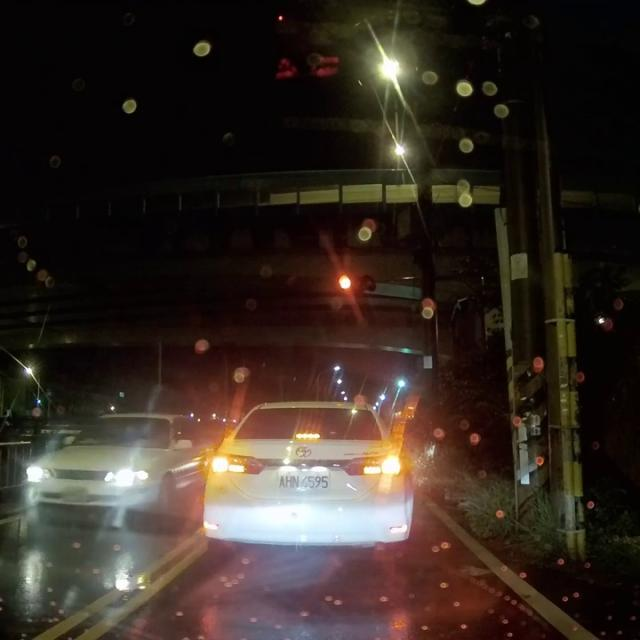Car: (200, 399, 415, 553), (21, 408, 205, 522)
